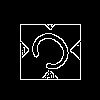C: (25, 25, 84, 83)
